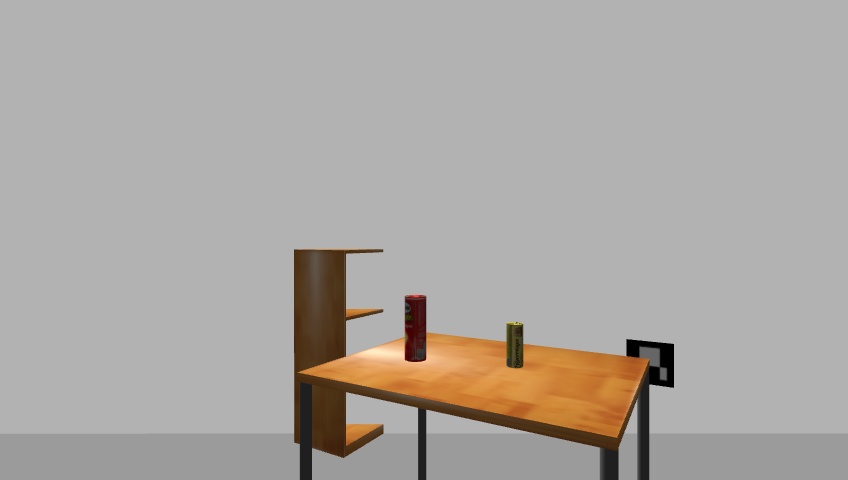aruco marker: (622, 337, 680, 390)
biscuits pack: (504, 322, 525, 370)
bookshelf: (290, 244, 389, 464)
dinner table: (291, 333, 660, 480)
pringles can: (402, 294, 428, 364)
